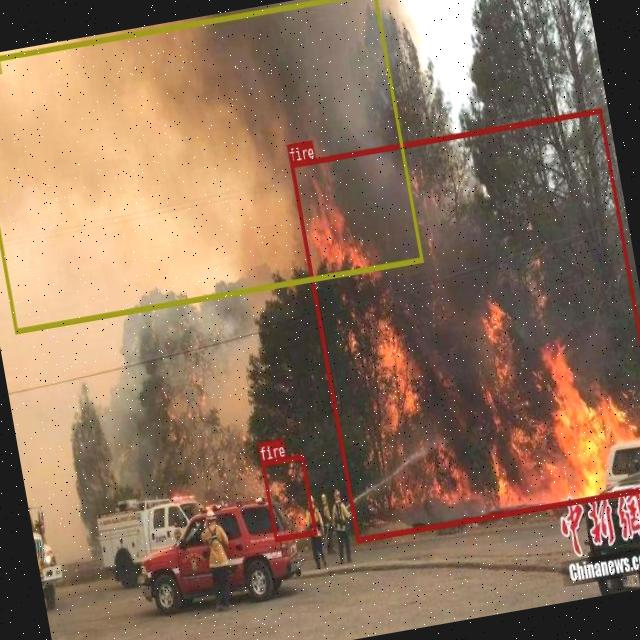fire: (289, 107, 640, 541), (260, 452, 316, 540)
smoke: (0, 0, 423, 333)
